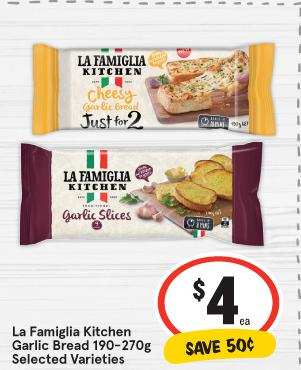description_block: (7, 319, 153, 366)
price_main: (151, 258, 285, 332)
product_image_block: (14, 37, 279, 254)
promo_text_block: (158, 332, 283, 364)
